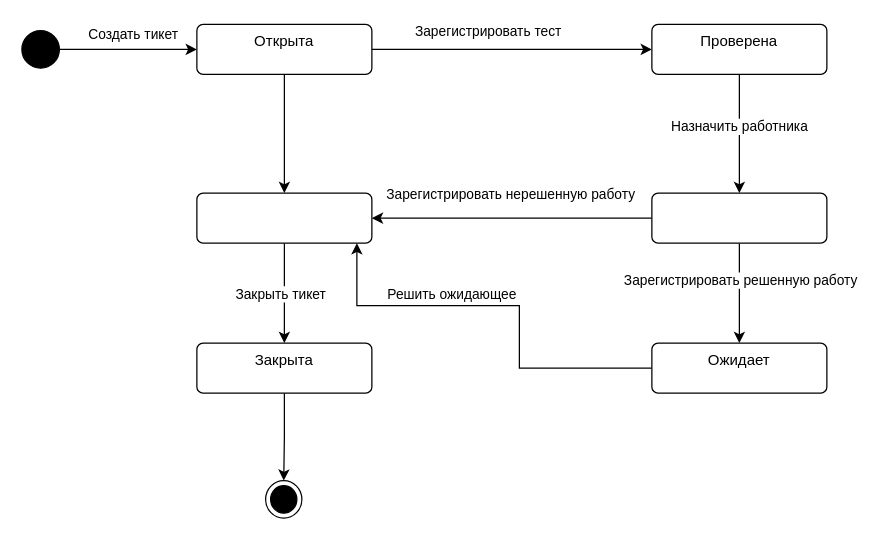
The diagram is 879 pixels wide and 540 high, and some of its shapes have lost their labels. Each missing label, with the box of its shape:
Назначена: (651, 192, 827, 243)
Решена: (196, 192, 372, 243)
